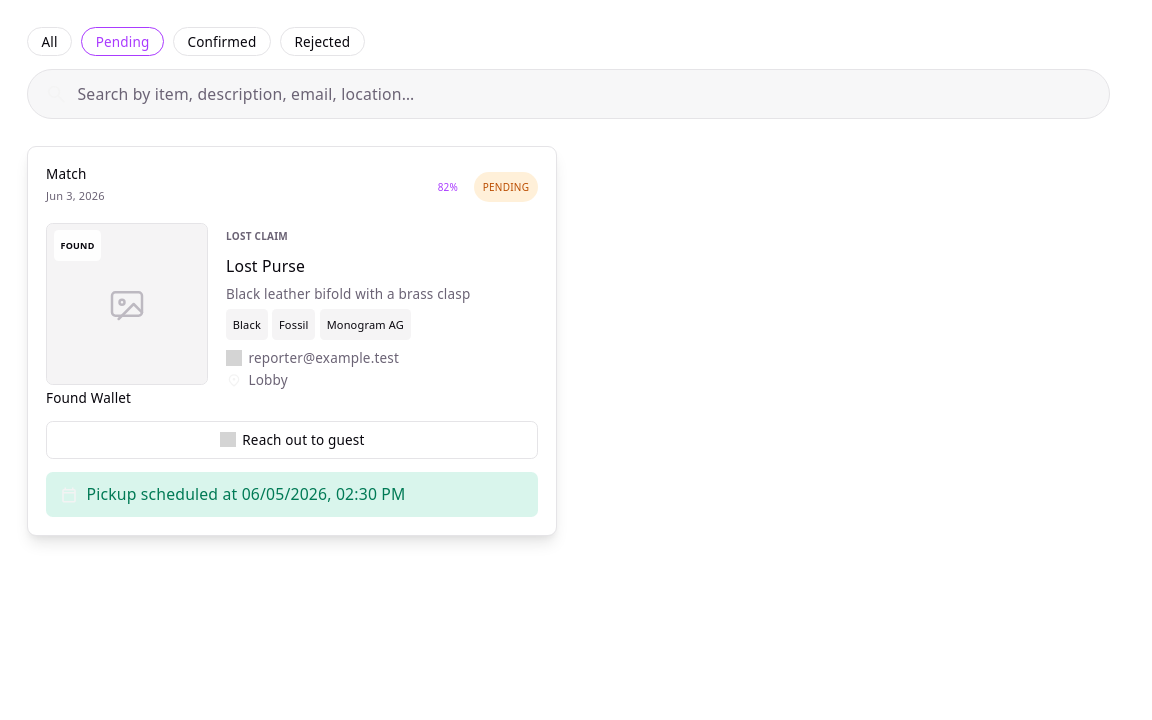
Test: <Matching /> › filters by status via the status tabs
Expected: the text "Found Wallet" is shown, x1=46 y1=389 x2=131 y2=407
Click the tab "Confirmed": coordinates (222, 42) x1=173 y1=27 x2=271 y2=56
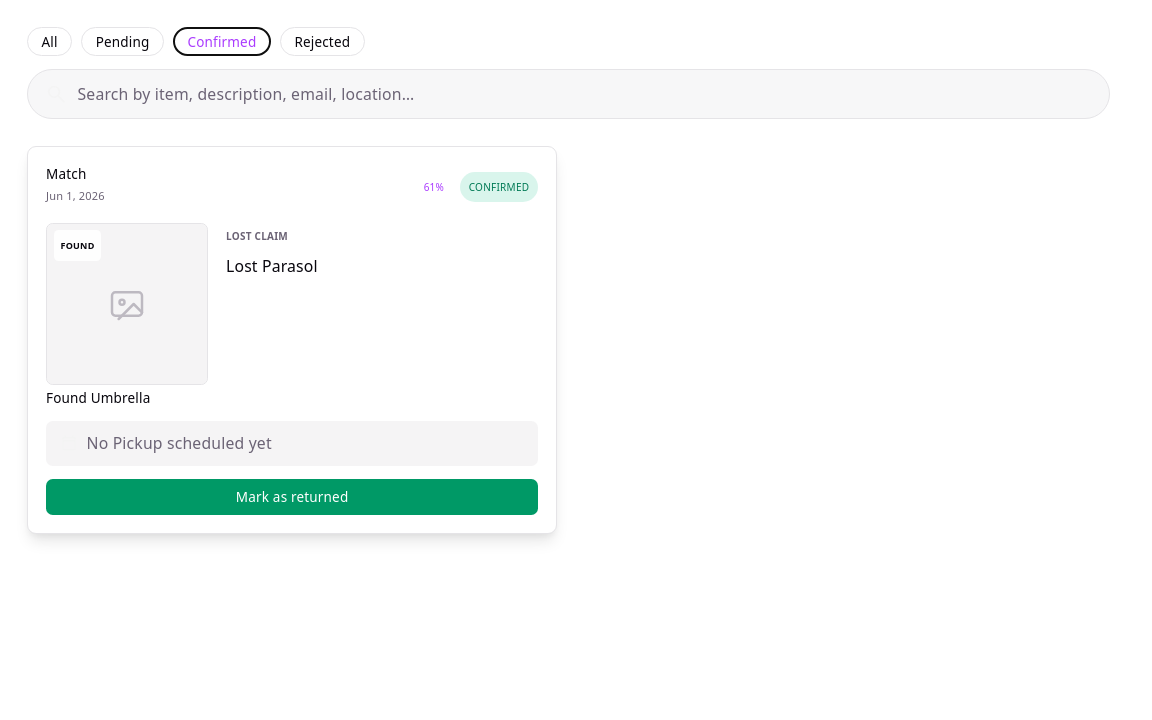
Now the text "Found Umbrella" is shown, box x1=46 y1=389 x2=150 y2=407
Now the text "Found Wallet" is gone
